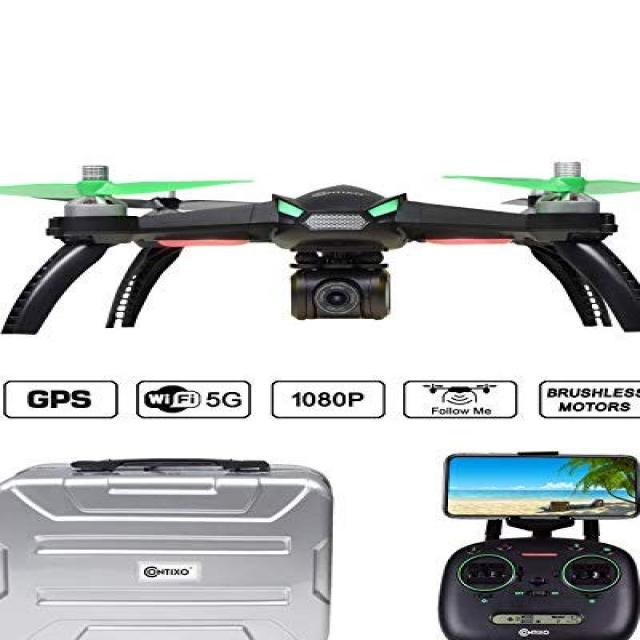drone: (0, 146, 640, 337)
